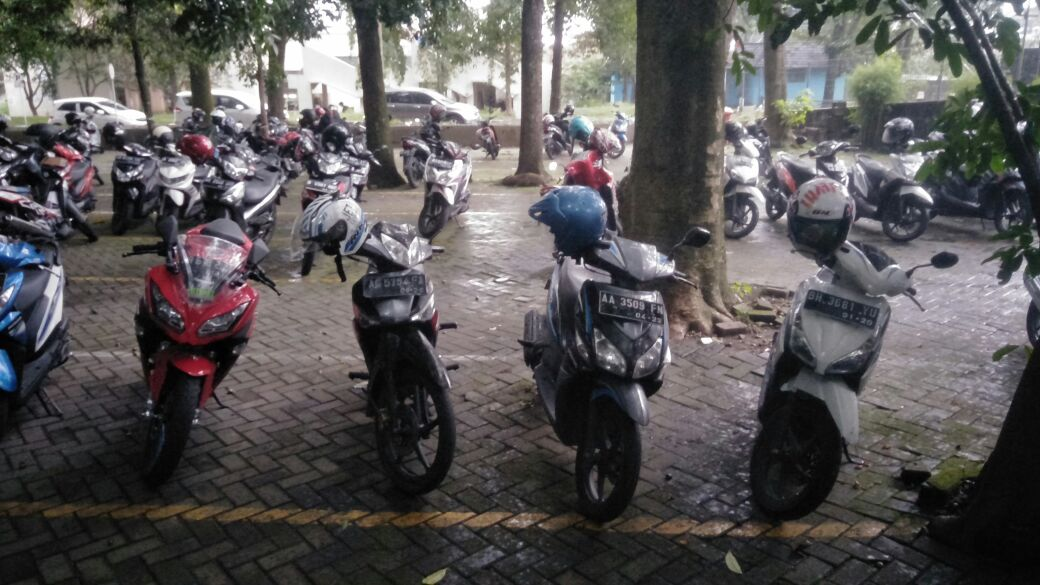plate: (804, 290, 879, 328), (597, 290, 666, 328), (361, 274, 426, 297)
